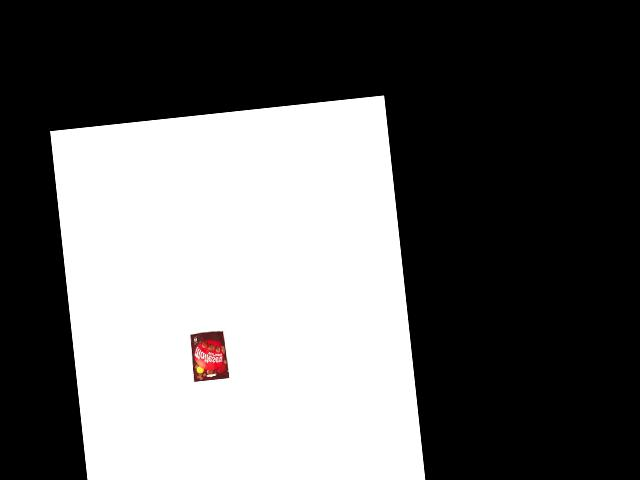chocolate: (188, 329, 230, 382)
